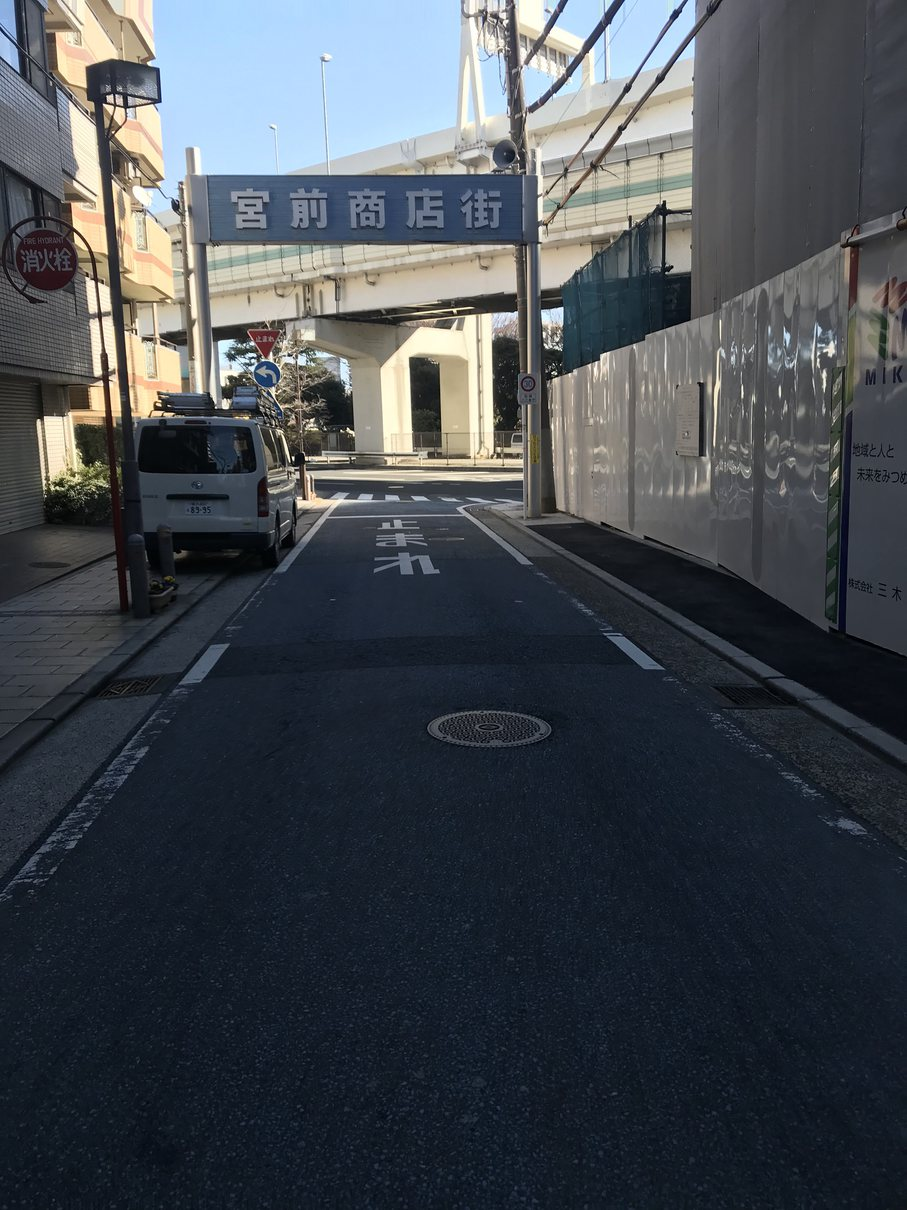stop_sign: (247, 326, 282, 360)
